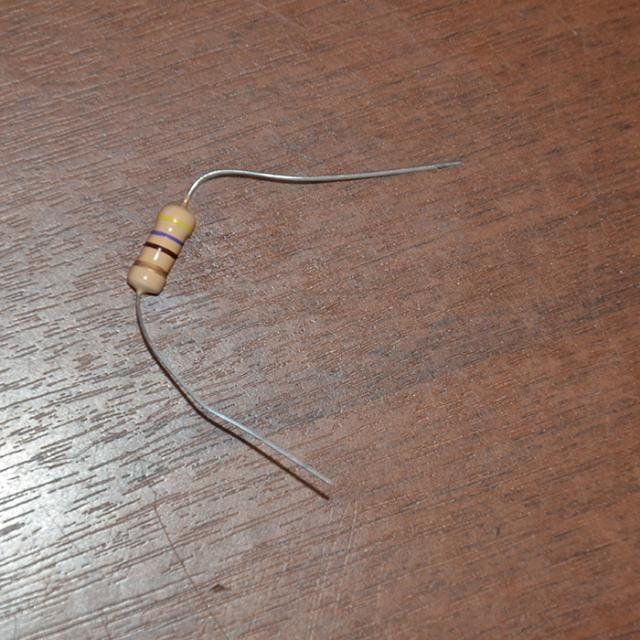brown: (145, 240, 178, 258)
gold: (134, 259, 167, 276)
resistor: (110, 192, 216, 313)
violet: (147, 229, 183, 244)
yellow: (159, 213, 190, 229)
